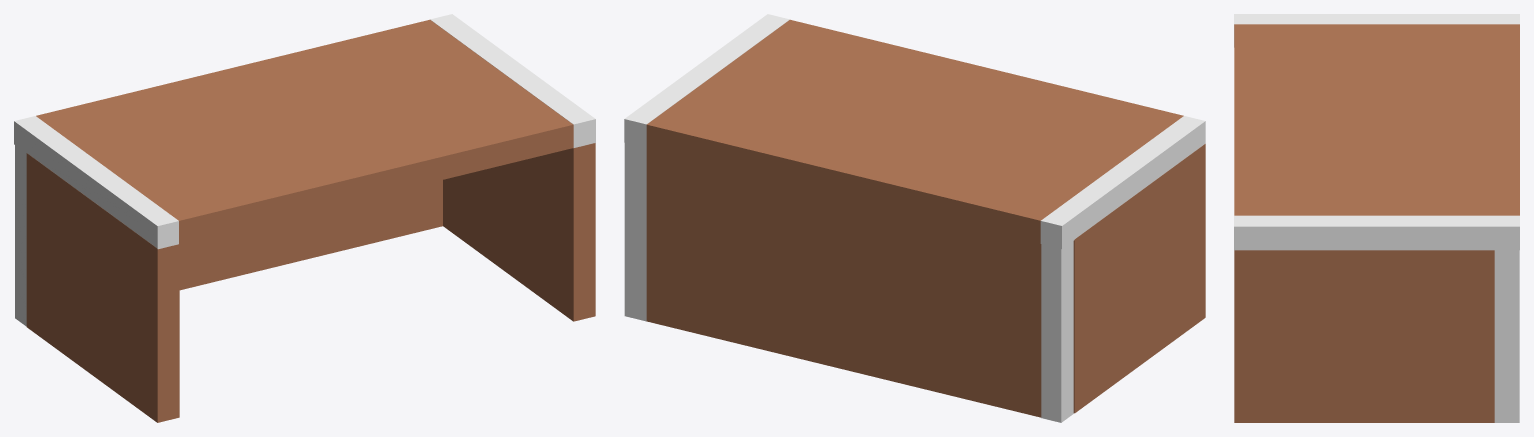
Rendered from table.glb.
3 renders of one model, left to right at view 1: azimuth 30°, elevation 25°; view 2: azimuth 150°, elevation 25°; view 3: azimuth 270°, elevation 25°, orthographic.
Parts seen in each view (by area): view 1: mesh_id34, mesh_id33, mesh_id27, mesh_id40, mesh_id80, mesh_id66, mesh_id72; view 2: mesh_id40, mesh_id34, mesh_id33, mesh_id80, mesh_id72, mesh_id86, mesh_id66; view 3: mesh_id34, mesh_id27, mesh_id66, mesh_id86, mesh_id80.
Boxes of the visible parts, x1,y1,x2,y2 form: mesh_id34: (36, 19, 573, 243); mesh_id33: (26, 153, 179, 422); mesh_id27: (443, 143, 595, 321); mesh_id40: (179, 180, 442, 290); mesh_id80: (14, 116, 178, 249); mesh_id66: (430, 14, 595, 148); mesh_id72: (15, 145, 26, 326); mesh_id40: (646, 148, 1041, 417); mesh_id34: (646, 19, 1183, 243); mesh_id33: (1073, 144, 1205, 413); mesh_id80: (1040, 116, 1205, 248); mesh_id72: (1041, 241, 1073, 422); mesh_id86: (624, 143, 646, 321); mesh_id66: (624, 14, 789, 147); mesh_id34: (1234, 24, 1519, 215); mesh_id27: (1234, 250, 1494, 422); mesh_id66: (1234, 215, 1519, 250); mesh_id86: (1494, 250, 1519, 422); mesh_id80: (1234, 14, 1519, 47).
Bounding box in the file's own units: 0.3981 × 0.1715 × 0.2259.
7 materials, 7 textured.
